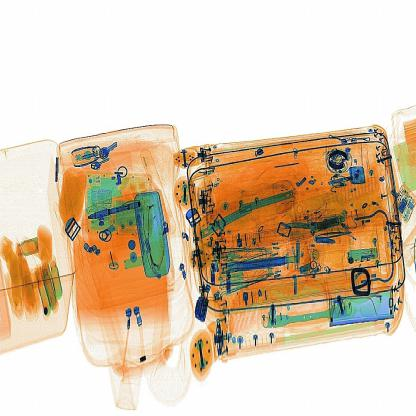wrench: (98, 242, 126, 280)
